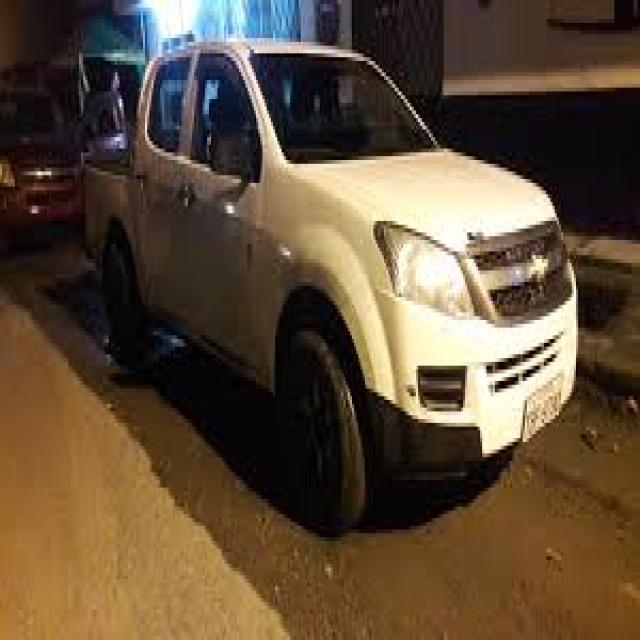CMT: (80, 41, 583, 539)
